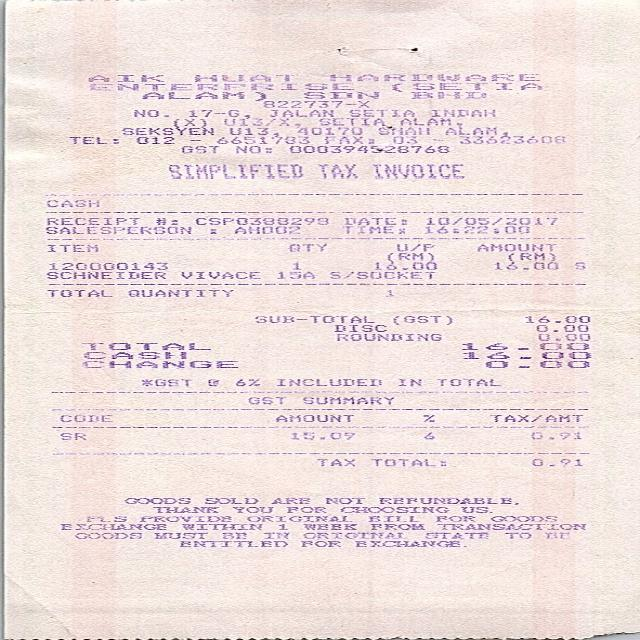text: (167, 163, 300, 178), (88, 83, 354, 90), (328, 73, 538, 81), (370, 163, 462, 178), (287, 145, 447, 153), (389, 82, 539, 90), (79, 361, 236, 368), (80, 342, 209, 350), (44, 226, 190, 233), (377, 497, 518, 504), (141, 92, 264, 100), (48, 262, 166, 270), (193, 217, 327, 224), (426, 217, 558, 224), (460, 342, 588, 349), (462, 351, 590, 358), (435, 523, 584, 529), (274, 378, 380, 386), (484, 360, 589, 368), (46, 271, 164, 278), (83, 351, 184, 359), (214, 136, 308, 144), (261, 100, 368, 107), (457, 136, 564, 143), (334, 333, 441, 340), (422, 225, 528, 232), (329, 271, 434, 278), (301, 532, 406, 539), (254, 316, 372, 322), (127, 289, 227, 296), (353, 540, 466, 546), (176, 540, 286, 546), (488, 414, 582, 421), (119, 127, 212, 134), (245, 515, 352, 521), (301, 397, 392, 404), (180, 270, 259, 278), (274, 414, 353, 422), (315, 163, 357, 178), (192, 74, 296, 80), (476, 243, 554, 251), (409, 90, 486, 98), (222, 117, 299, 125), (67, 524, 164, 530), (186, 109, 249, 118), (138, 515, 230, 521), (45, 218, 136, 224), (338, 507, 447, 512), (86, 74, 162, 81), (303, 91, 377, 98), (398, 117, 462, 125), (436, 378, 500, 386), (374, 262, 436, 270), (180, 523, 262, 529), (392, 316, 452, 324), (233, 225, 300, 232), (348, 109, 414, 116), (266, 109, 332, 116), (294, 127, 360, 134), (492, 262, 558, 269), (124, 497, 190, 504), (429, 109, 494, 116), (370, 459, 444, 465), (444, 127, 507, 134), (342, 217, 405, 224), (340, 225, 402, 232), (44, 244, 98, 252), (506, 252, 553, 261), (377, 126, 429, 134), (536, 323, 588, 331), (387, 252, 433, 261), (489, 515, 556, 521), (228, 127, 278, 135), (140, 378, 190, 386), (46, 290, 112, 296), (522, 316, 588, 322), (74, 532, 140, 538), (44, 199, 99, 206), (318, 118, 382, 124), (289, 432, 353, 438), (424, 532, 486, 538), (537, 333, 589, 340), (67, 136, 118, 143), (322, 136, 372, 143), (530, 458, 580, 465), (368, 523, 424, 529), (150, 507, 217, 512), (301, 523, 355, 529), (134, 136, 174, 144), (203, 497, 256, 503), (334, 325, 386, 331), (60, 415, 112, 421), (528, 432, 580, 438), (153, 532, 205, 538), (366, 515, 417, 521), (324, 497, 364, 504), (286, 243, 325, 250), (275, 271, 314, 278), (247, 397, 286, 404), (171, 118, 205, 126), (395, 243, 433, 250), (316, 458, 354, 465), (84, 515, 126, 521), (433, 515, 474, 521), (298, 540, 339, 546), (180, 146, 218, 152), (270, 497, 308, 503), (234, 146, 271, 152), (460, 506, 491, 513), (132, 110, 168, 116), (231, 507, 273, 512), (396, 378, 422, 386), (234, 378, 260, 386), (285, 507, 324, 512), (58, 432, 84, 439), (154, 217, 176, 225), (392, 136, 417, 143), (542, 532, 568, 538), (504, 532, 530, 538), (220, 532, 245, 538), (262, 532, 287, 538), (204, 378, 218, 386), (572, 262, 585, 270), (422, 414, 433, 422), (421, 432, 434, 438), (291, 262, 299, 269), (384, 289, 392, 296), (277, 523, 286, 529)
